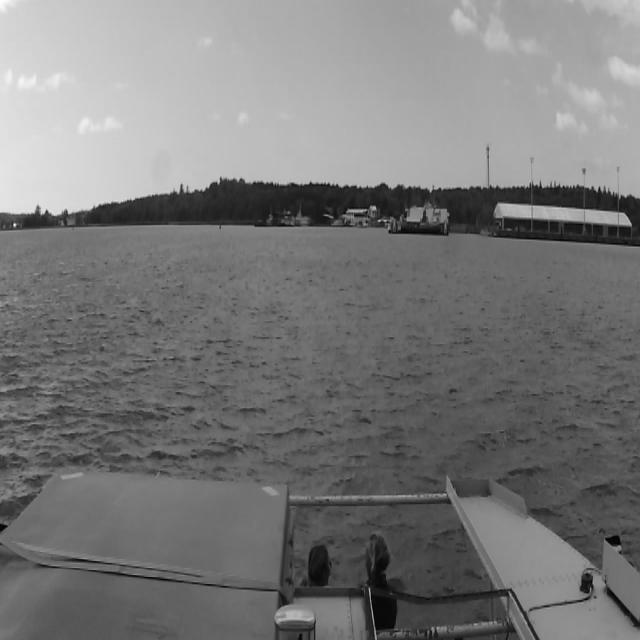buoy: (218, 213, 222, 231)
